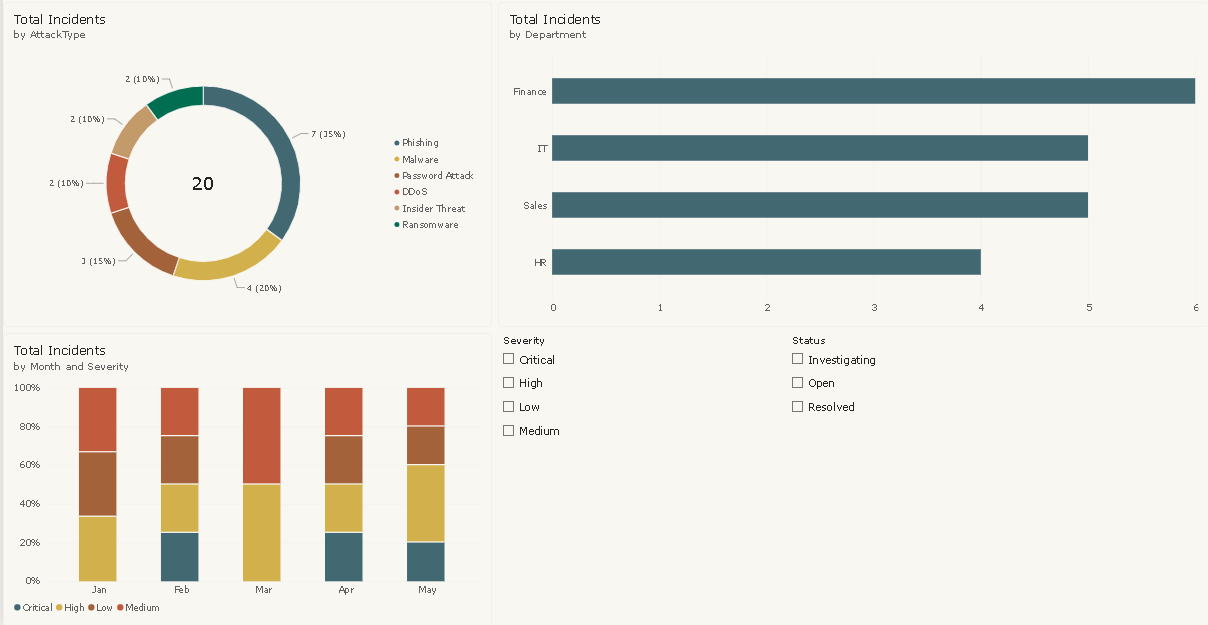

The page's visual inventory and layout, read from the dashboard file:
{"tool":"powerbi","page":{"name":"Page 1","canvas":[1920,1080],"ordinal":0},"visuals":[{"type":"donutChart","fields":{"Category":["SecurityIncidents.AttackType"],"Y":["SecurityIncidents.Total Incidents"]},"box":[0,84.6,778.5,517.3],"z":0},{"type":"hundredPercentStackedColumnChart","fields":{"Category":["SecurityIncidents.Month"],"Series":["SecurityIncidents.Severity"],"Y":["SecurityIncidents.Total Incidents"]},"box":[0,612,778,468],"z":1},{"type":"clusteredBarChart","fields":{"Category":["SecurityIncidents.Department"],"Y":["SecurityIncidents.Total Incidents"]},"box":[788.4,84.6,1131.6,517.3],"z":2},{"type":"slicer","fields":{"Values":["SecurityIncidents.Severity"]},"box":[788.4,611.8,325.8,467.6],"z":3},{"type":"slicer","fields":{"Values":["SecurityIncidents.Status"]},"box":[1248.5,611.8,654.1,467.6],"z":4}]}

Visuals, with their boxes on the page's 1920x1080 design canvas (x1, y1, x2, y2). These are canvas units, not pixel positions in the 1208x625 screenshot, which may show the page scaled, cropped or inside an application window:
donutChart - SecurityIncidents.AttackType x SecurityIncidents.Total Incidents: box=[0, 85, 778, 602]
hundredPercentStackedColumnChart - SecurityIncidents.Month x SecurityIncidents.Severity: box=[0, 612, 778, 1080]
clusteredBarChart - SecurityIncidents.Department x SecurityIncidents.Total Incidents: box=[788, 85, 1920, 602]
slicer - SecurityIncidents.Severity: box=[788, 612, 1114, 1079]
slicer - SecurityIncidents.Status: box=[1248, 612, 1903, 1079]
